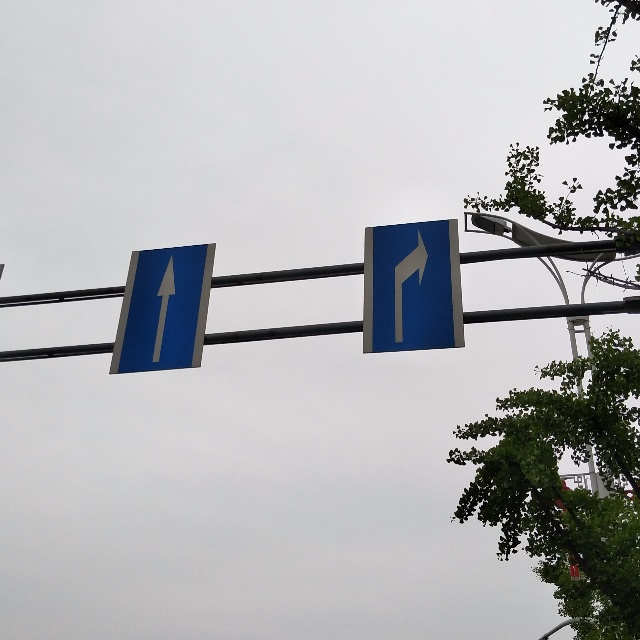right: (369, 228, 450, 352)
straight: (137, 246, 187, 369)
